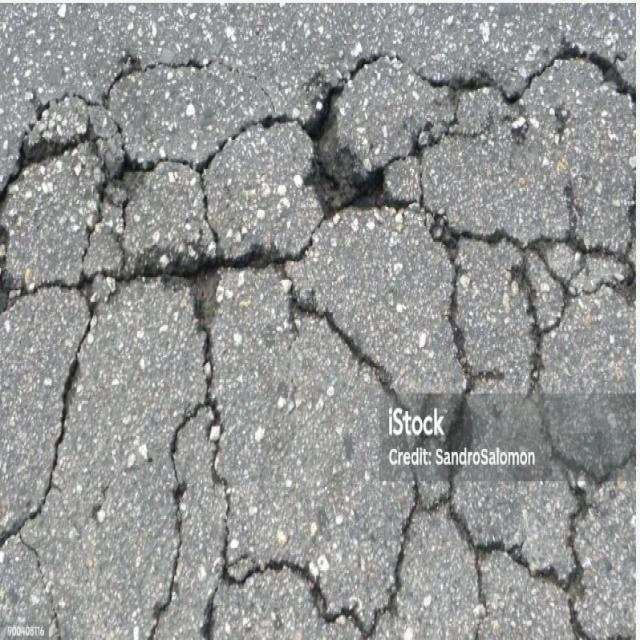network cracks: (0, 47, 639, 639)
